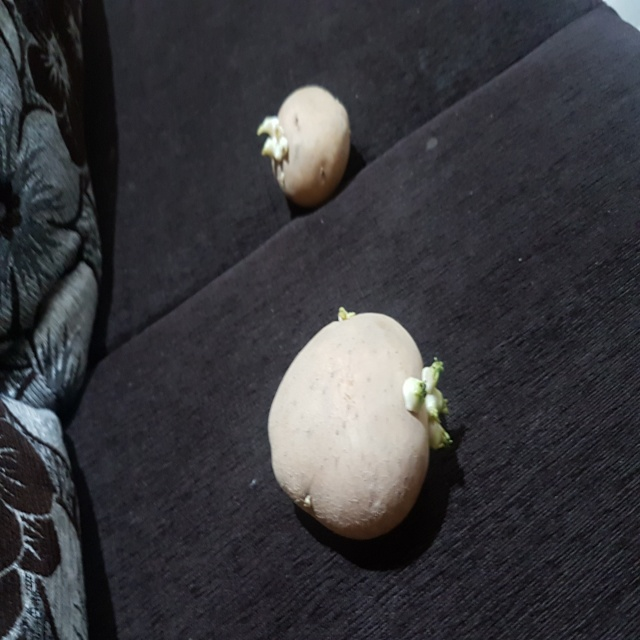potato: (253, 305, 465, 553), (253, 83, 373, 208)
